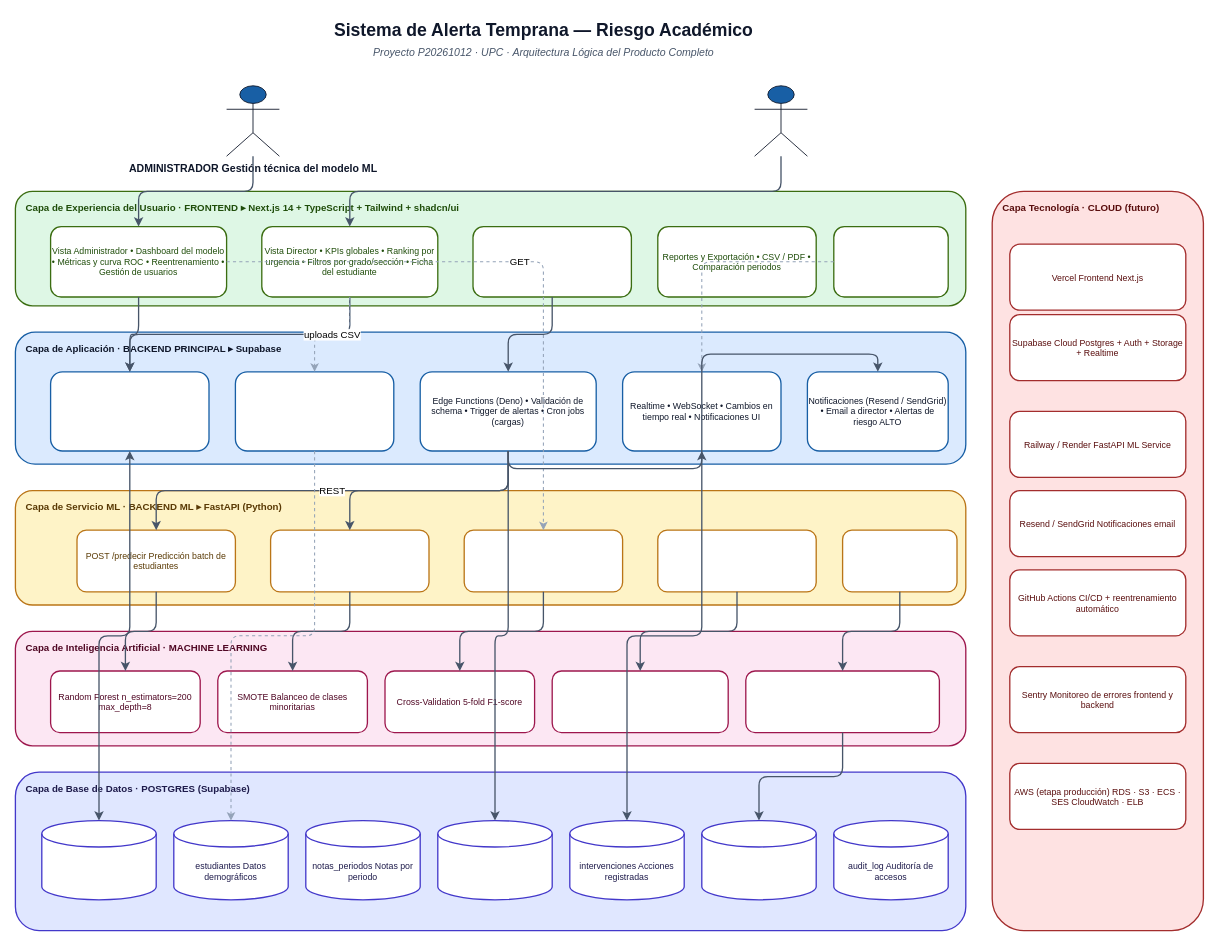
The diagram is 1220 pixels wide and 946 high, and some of its shapes have lost their labels. Each missing label, with the centre of its shape:
"DIRECTOR / COORDINADOR Gestión académica de estudiantes" belongs at [780,120].
"Feature Importance Ranking de variables más influyentes" belongs at [639,701].
"GET /importancia Feature Importance" belongs at [736,560].
"GET /metricas Accuracy, F1, AUC CV F1 (5-fold)" belongs at [543,560].
"Loader Carga modelo .pkl en memoria" belongs at [899,560].
"modelos_versiones Histórico de modelos" belongs at [758,860].
"POST /reentrenar Dispara pipeline de entrenamiento" belongs at [349,560].
"predicciones Histórico predictivo" belongs at [494,860].
"profiles Usuarios + roles" belongs at [98,860].
"Registro de Intervenciones • Tutorías · Reuniones • Derivaciones" belongs at [552,261].
"Supabase Auth • JWT • Roles (admin/director) • Row Level Security" belongs at [129,411].
"Supabase Storage • Upload de CSV • Modelos .pkl • Reportes PDF" belongs at [314,411].
"Versionado de modelos Histórico + rollback de versiones" belongs at [842,701].
"Visualizaciones (Plotly.js) • Distribución • Importancia • ROC" belongs at [890,261].
